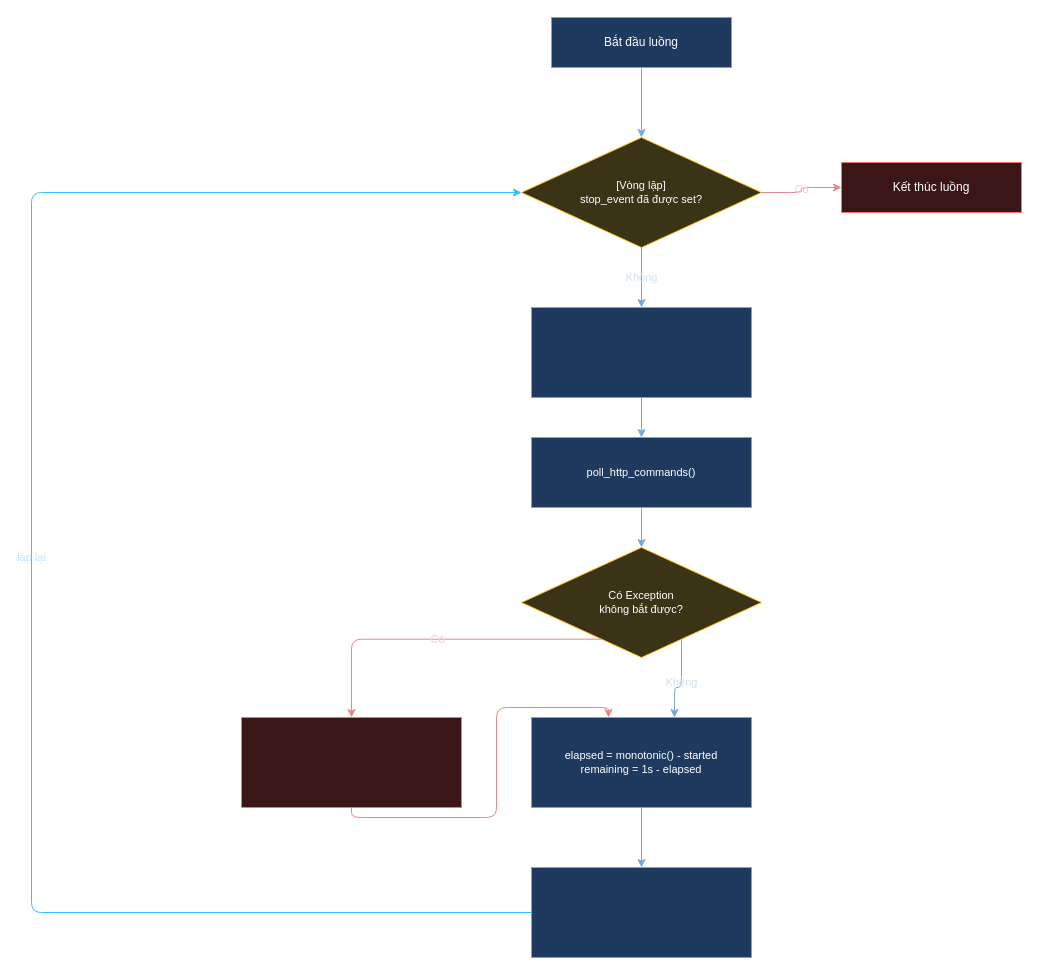
The diagram is 1039 pixels wide and 975 high, and some of its shapes have lost their labels. The shapes that lost their labels are listed below. From the top down, each one's centre as x and y in pixels, then its label:
At (641,352): "started = monotonic() (mốc thời gian bắt đầu vòng)".
At (351,762): "In lỗi ra console (không dừng luồng)".
At (641,912): "stop_event.wait( max(0.05, remaining))".
